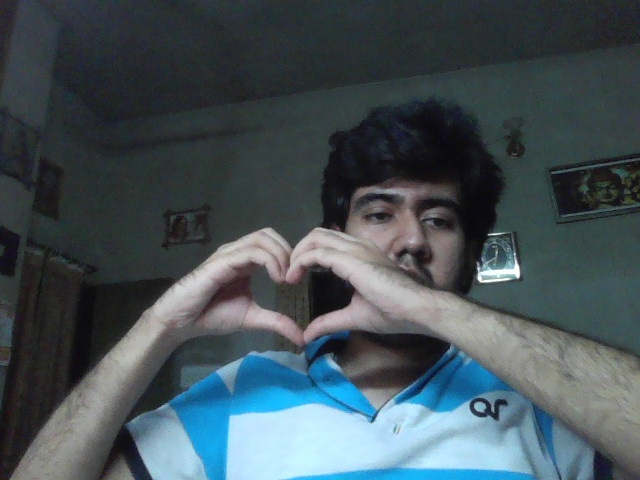Love: (164, 226, 418, 347)
